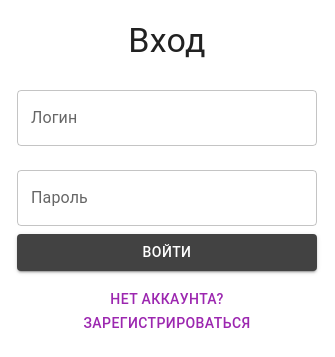
Test case: Страница Login › if the login is incorrect, an error message is displayed
This screenshot has width=335, height=357.
Type "wronguser" into the field labelled "Логин" at coordinates (167, 118), box [17,90,317,146]
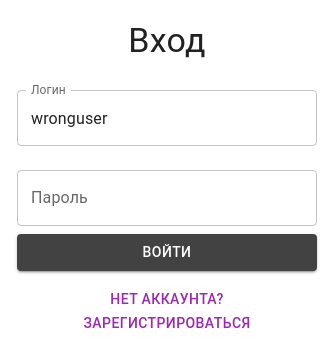
Type "wrongpassword" into the password field labelled "Пароль" at coordinates (167, 198), box [17,170,317,226]
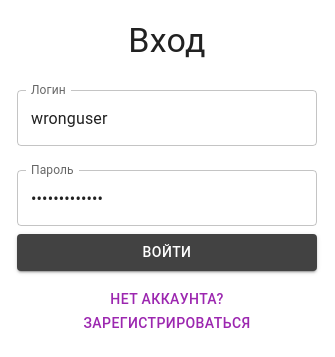
Click the button with test id "login-submit" at coordinates (167, 252), box [17,234,317,271]
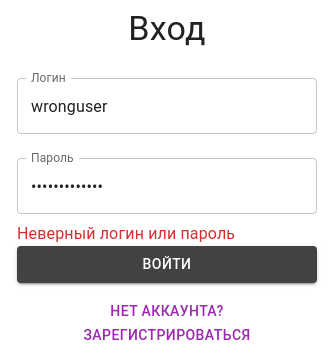
Check: the text "Неверный логин или пароль" is shown, box [17,224,235,243]
